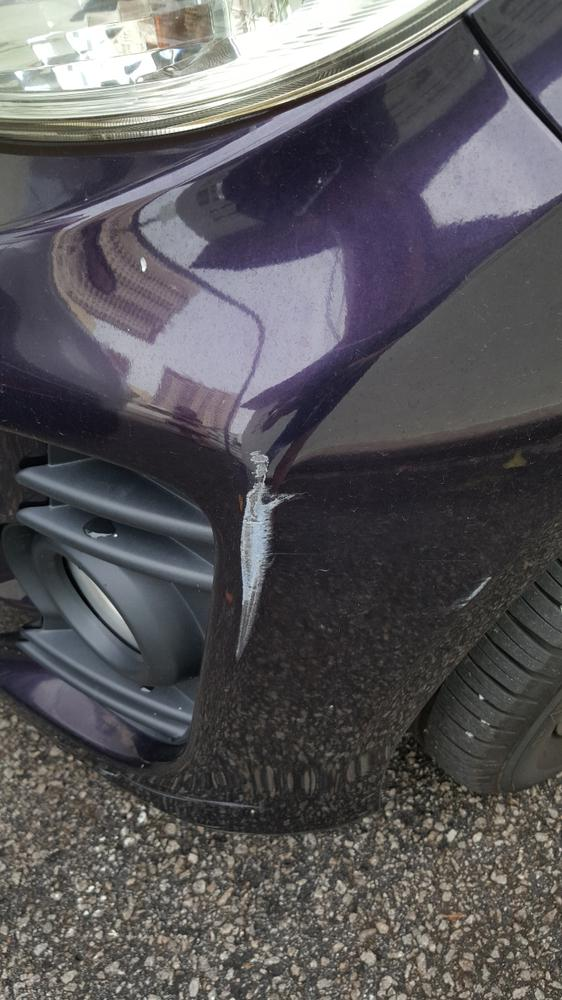scratch: (234, 449, 297, 656)
